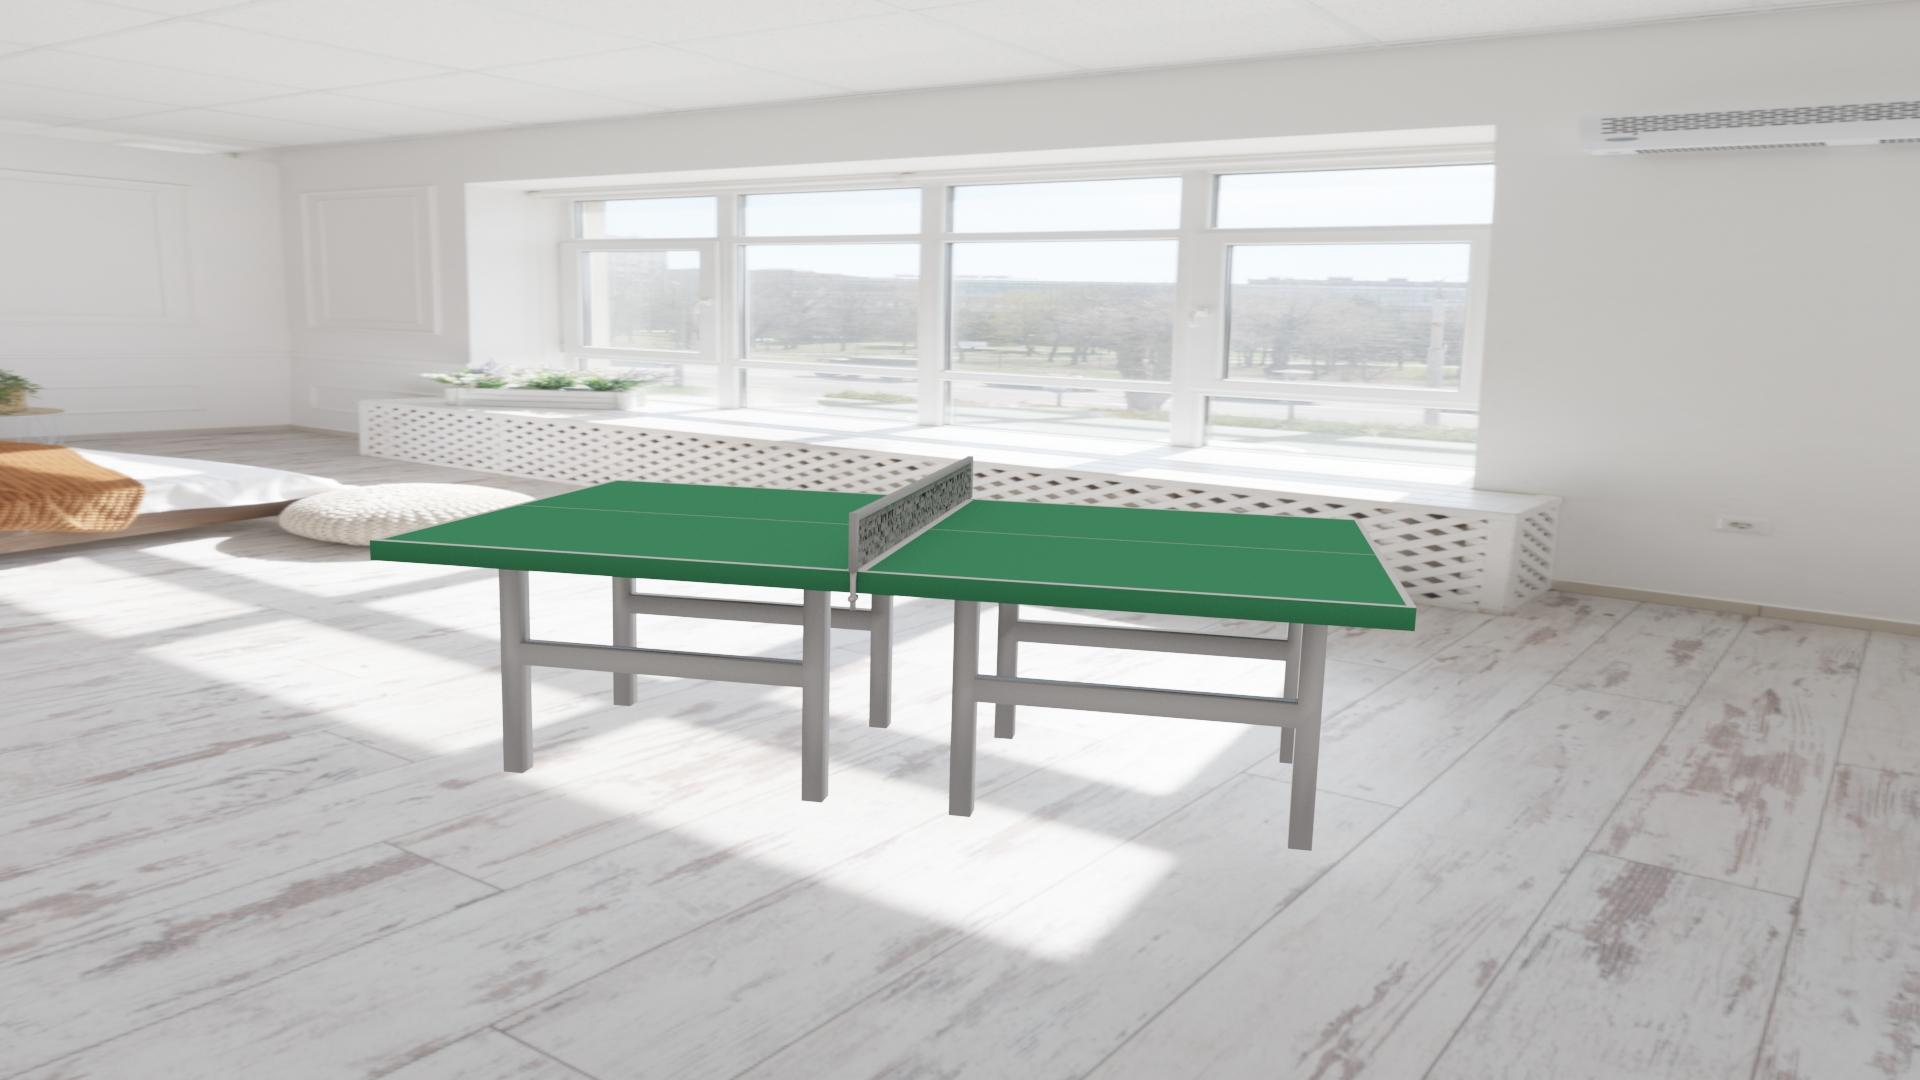table: (381, 480, 1407, 605)
